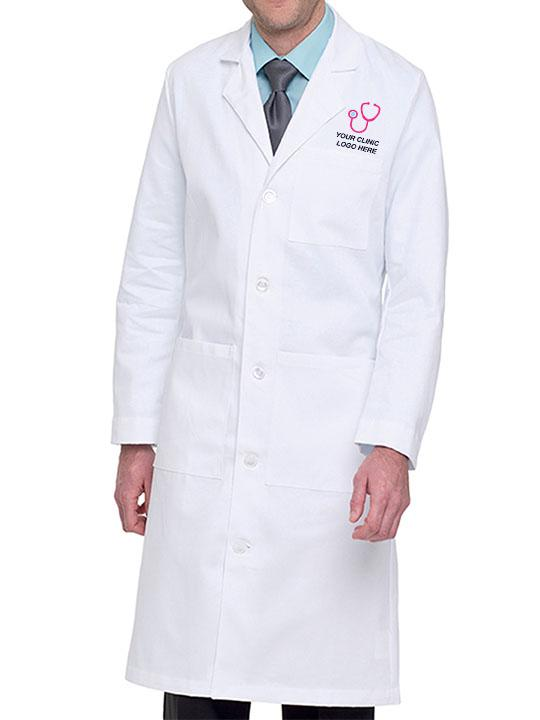lab_coat: (116, 5, 450, 701)
